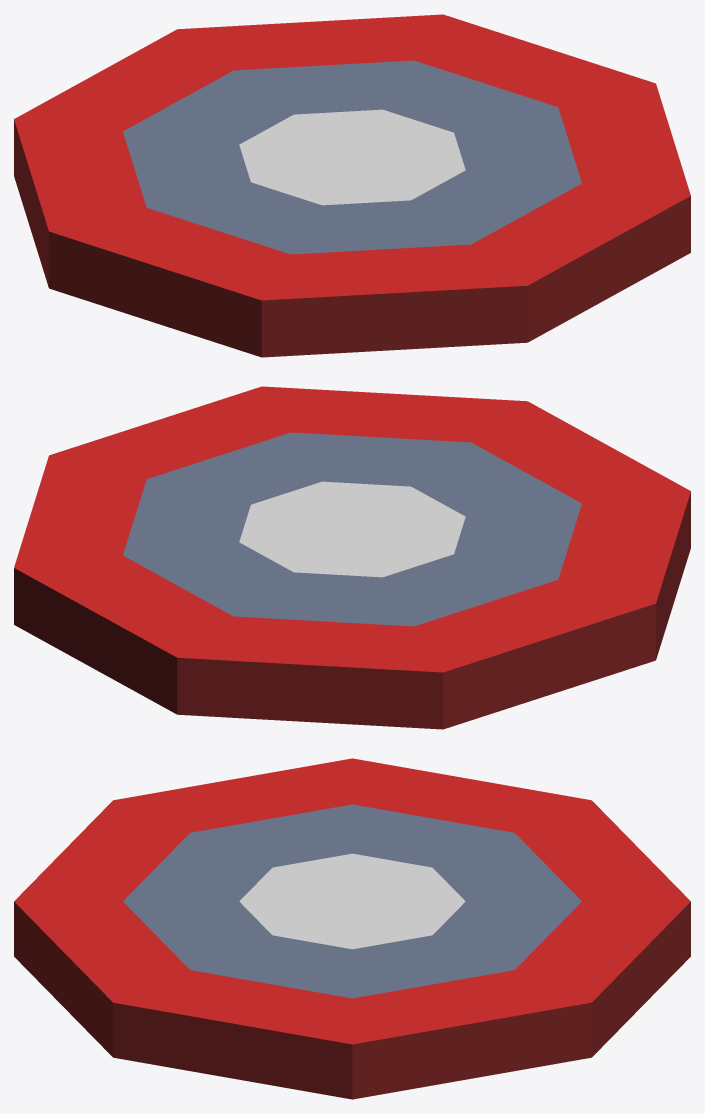
File: Camara Principal.fbx
The picture shows the model from 3 angles, top to bottom: view 1: azimuth 30°, elevation 25°; view 2: azimuth 150°, elevation 25°; view 3: azimuth 270°, elevation 25°; orthographic projection. The views are drawn at different scales.
Visible parts, largest first — view 1: Camara principal (FINALE); view 2: Camara principal (FINALE); view 3: Camara principal (FINALE).
Part boxes in pixels (box(x1,y1,x2,y2)): Camara principal (FINALE): box(14, 14, 690, 357); Camara principal (FINALE): box(14, 386, 690, 729); Camara principal (FINALE): box(14, 758, 690, 1099).
Bounding box in the file's own units: 1616 × 145 × 1616.
Materials: 1 (1 with a texture image).
